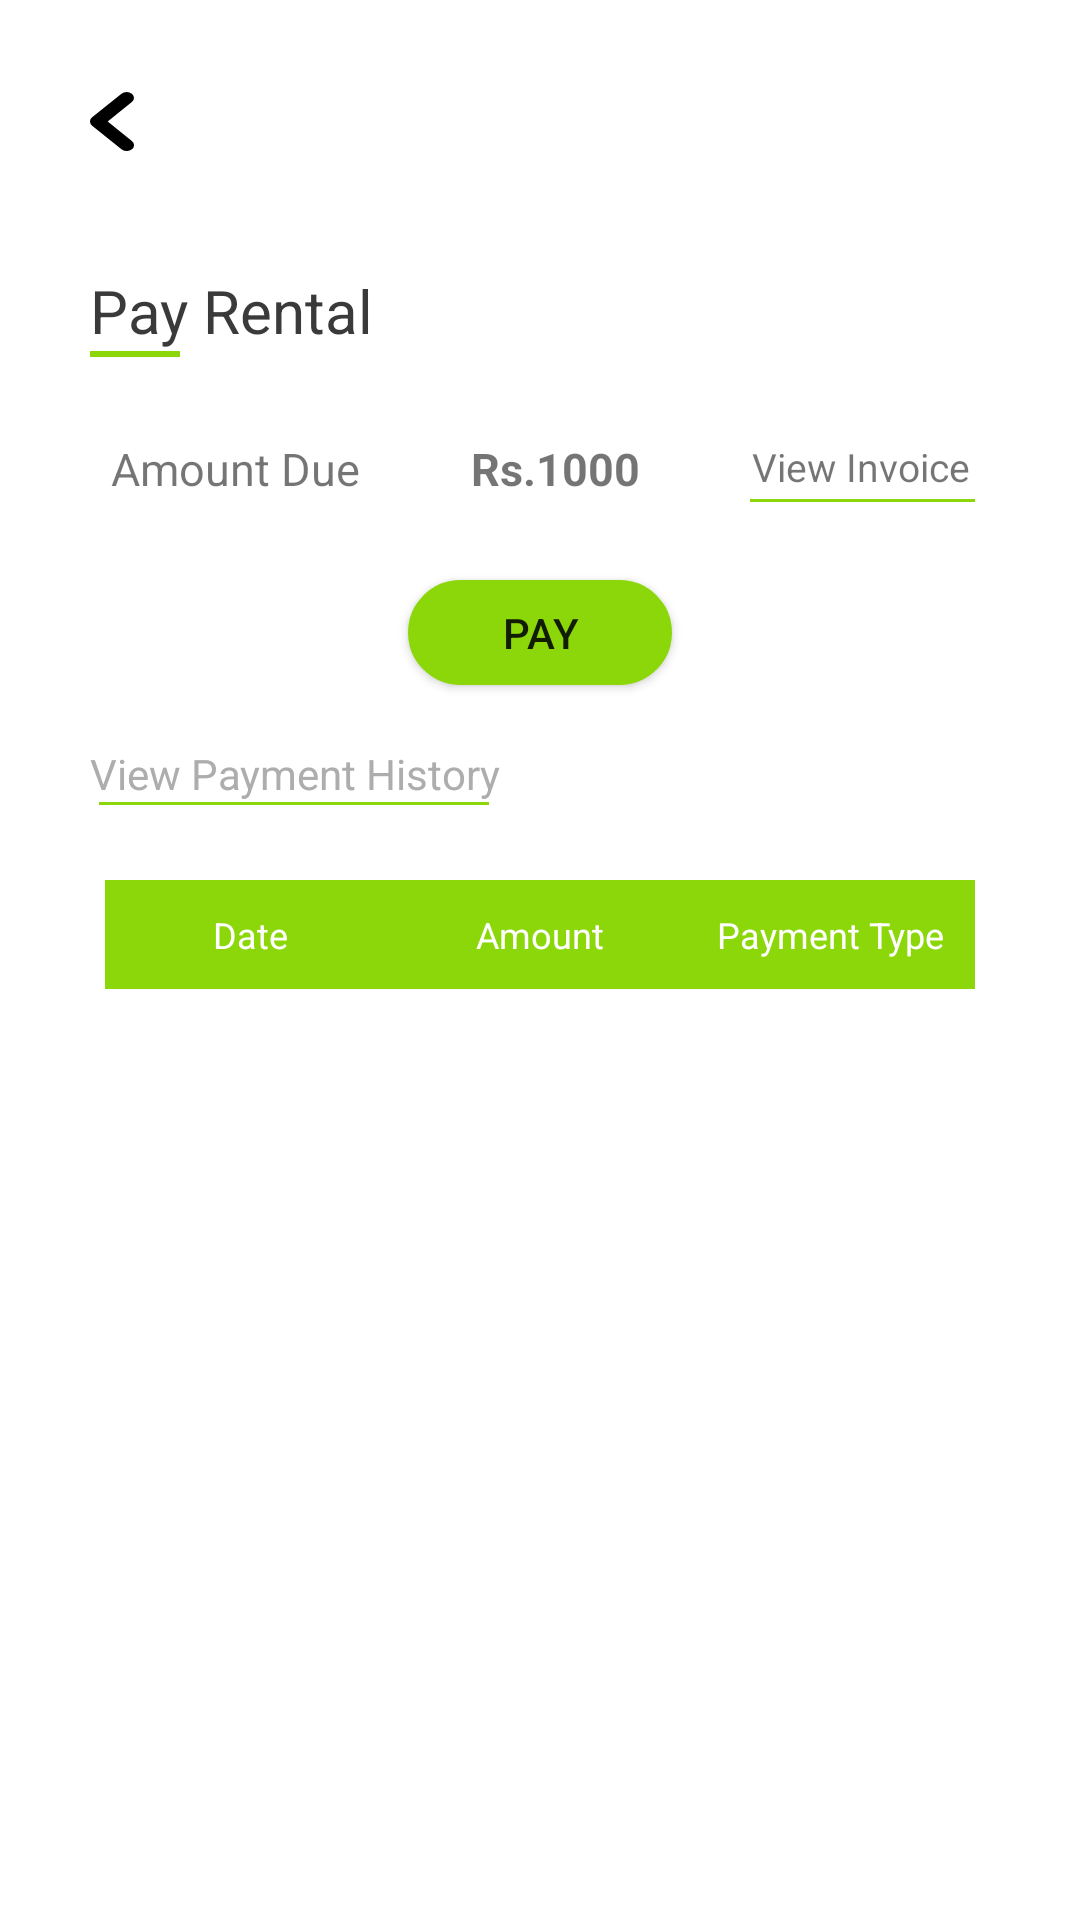

Icons on this 1080px×1920px Android screen, each with its box as detection(x1, y1, x2, y2):
back: detection(90, 92, 134, 151)
